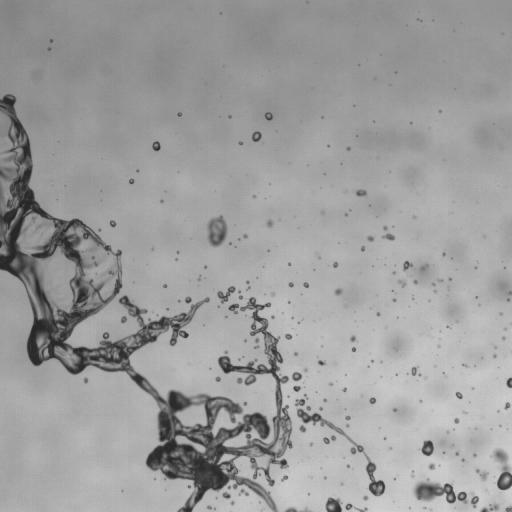droplet: (207, 214, 227, 247), (217, 286, 235, 303), (418, 440, 434, 456), (325, 497, 342, 511), (475, 468, 488, 481), (323, 435, 336, 445), (402, 260, 413, 271), (291, 371, 302, 382), (256, 120, 267, 131), (26, 178, 37, 189), (372, 227, 383, 238), (395, 287, 406, 298), (129, 321, 140, 332), (73, 322, 84, 333), (66, 335, 77, 346), (87, 338, 98, 349), (127, 352, 138, 363), (258, 354, 269, 365), (132, 362, 143, 373), (83, 364, 94, 375), (117, 370, 128, 381), (280, 382, 291, 393), (181, 386, 192, 397), (149, 403, 160, 414), (263, 409, 274, 420), (290, 415, 301, 426), (149, 424, 160, 435), (289, 430, 300, 441), (150, 436, 161, 447), (466, 458, 477, 469), (269, 463, 280, 474), (415, 472, 426, 483), (428, 473, 439, 484), (255, 474, 266, 485), (175, 477, 186, 488), (406, 478, 417, 489), (268, 485, 279, 496), (203, 488, 214, 499), (275, 500, 286, 511), (460, 500, 471, 511), (251, 131, 261, 142), (354, 189, 367, 196), (238, 488, 249, 496), (15, 111, 24, 120), (396, 269, 405, 278), (235, 281, 244, 290), (293, 281, 302, 290), (228, 294, 237, 303), (181, 303, 190, 312), (101, 304, 110, 313), (119, 305, 128, 314), (165, 309, 174, 318), (24, 319, 33, 328), (19, 348, 28, 357), (228, 370, 237, 379), (286, 378, 295, 387), (145, 394, 154, 403), (243, 405, 252, 414), (287, 407, 296, 416), (335, 418, 344, 427), (324, 427, 333, 436), (486, 444, 495, 453), (424, 454, 433, 463), (153, 468, 162, 477), (372, 471, 381, 480), (407, 491, 416, 500), (152, 141, 160, 151), (264, 112, 273, 120), (397, 279, 406, 287), (222, 491, 231, 499), (505, 456, 511, 467), (191, 505, 202, 511), (464, 505, 475, 511), (350, 334, 358, 342), (280, 474, 288, 482), (266, 219, 273, 228), (334, 288, 342, 295), (504, 402, 511, 410), (428, 462, 435, 470), (0, 109, 5, 120), (0, 149, 5, 160), (0, 267, 5, 278), (502, 505, 511, 511), (109, 220, 116, 227), (120, 316, 127, 323), (455, 392, 462, 399), (369, 397, 376, 404), (12, 102, 19, 109), (20, 120, 27, 127), (5, 141, 12, 148), (28, 144, 35, 151), (29, 171, 36, 178), (357, 183, 364, 190), (33, 194, 40, 201), (39, 202, 46, 209), (64, 214, 71, 221), (202, 217, 209, 224), (387, 227, 394, 234), (202, 229, 209, 236), (373, 234, 380, 241), (223, 235, 230, 242), (203, 239, 210, 246), (363, 240, 370, 247), (208, 244, 215, 251), (405, 278, 412, 285), (117, 289, 124, 296), (240, 298, 247, 305), (245, 308, 252, 315), (257, 309, 264, 316), (180, 324, 187, 331), (166, 326, 173, 333), (256, 331, 263, 338), (108, 335, 115, 342), (176, 335, 183, 342), (64, 337, 71, 344), (257, 339, 264, 346), (145, 341, 152, 348), (258, 343, 265, 350), (275, 343, 282, 350), (49, 357, 56, 364), (230, 358, 237, 365), (240, 359, 247, 366), (137, 368, 144, 375), (216, 368, 223, 375), (240, 371, 247, 378), (129, 380, 136, 387), (172, 384, 179, 391), (295, 391, 302, 398), (161, 392, 168, 399), (231, 396, 238, 403), (269, 396, 276, 403), (266, 419, 273, 426), (328, 428, 335, 435), (288, 434, 295, 441), (141, 452, 148, 459), (464, 453, 471, 460), (280, 467, 287, 474), (494, 469, 501, 476), (173, 477, 180, 484), (220, 485, 227, 492), (228, 488, 235, 495), (465, 493, 472, 500), (375, 494, 382, 501), (418, 498, 425, 505), (178, 500, 185, 507), (285, 501, 292, 508), (475, 501, 482, 508), (366, 235, 374, 241), (284, 333, 292, 339), (317, 360, 326, 365), (506, 329, 511, 338), (410, 470, 415, 478), (214, 376, 221, 381), (129, 178, 134, 184), (361, 245, 366, 251), (333, 261, 338, 267), (302, 282, 308, 287), (270, 291, 275, 297), (83, 377, 88, 383), (362, 495, 368, 500), (507, 325, 511, 332), (265, 507, 272, 511), (340, 507, 347, 511), (473, 507, 480, 511), (497, 507, 504, 511), (288, 282, 293, 287), (342, 387, 347, 392), (454, 418, 459, 423), (48, 42, 53, 47), (247, 131, 252, 136), (5, 137, 10, 142), (247, 137, 252, 142), (151, 149, 156, 154), (7, 151, 12, 156), (358, 195, 363, 200), (51, 212, 56, 217), (214, 212, 219, 217), (222, 215, 227, 220), (271, 217, 276, 222), (262, 218, 267, 223), (265, 226, 270, 231), (381, 230, 386, 235), (97, 231, 102, 236), (369, 231, 374, 236), (385, 238, 390, 243), (104, 240, 109, 245), (111, 247, 116, 252), (119, 253, 124, 258), (328, 260, 333, 265), (120, 266, 125, 271), (443, 277, 448, 282), (120, 279, 125, 284), (435, 281, 440, 286), (332, 284, 337, 289), (265, 289, 270, 294), (329, 289, 334, 294), (183, 292, 188, 297), (337, 293, 342, 298), (199, 295, 204, 300), (128, 297, 133, 302), (216, 297, 221, 302), (180, 298, 185, 303), (190, 299, 195, 304), (255, 299, 260, 304), (202, 301, 207, 306), (137, 304, 142, 309), (228, 310, 233, 315), (139, 312, 144, 317), (116, 315, 121, 320), (191, 315, 196, 320), (154, 316, 159, 321), (266, 316, 271, 321), (293, 316, 298, 321), (248, 317, 253, 322), (143, 319, 148, 324), (504, 322, 509, 327), (265, 326, 270, 331), (287, 329, 292, 334), (501, 330, 506, 335), (346, 333, 351, 338), (354, 334, 359, 339), (250, 335, 255, 340), (351, 341, 356, 346), (492, 348, 497, 353), (219, 351, 224, 356), (226, 352, 231, 357), (280, 352, 285, 357), (496, 353, 501, 358), (41, 360, 46, 365), (275, 361, 280, 366), (265, 363, 270, 368), (61, 366, 66, 371), (297, 368, 302, 373), (100, 369, 105, 374), (106, 370, 111, 375), (300, 371, 305, 376), (267, 372, 272, 377), (254, 373, 259, 378), (505, 373, 510, 378), (287, 374, 292, 379), (501, 379, 506, 384), (294, 380, 299, 385), (249, 382, 254, 387), (279, 382, 284, 387), (506, 386, 511, 391), (140, 389, 145, 394), (209, 392, 214, 397), (222, 392, 227, 397), (225, 393, 230, 398), (270, 393, 275, 398), (304, 400, 309, 405), (238, 401, 243, 406), (320, 401, 325, 406), (301, 405, 306, 410), (316, 409, 321, 414), (307, 410, 312, 415), (458, 417, 463, 422), (308, 419, 313, 424), (346, 419, 351, 424), (315, 420, 320, 425), (333, 421, 338, 426), (452, 422, 457, 427), (500, 425, 505, 430), (341, 426, 346, 431), (333, 431, 338, 436), (350, 435, 355, 440), (424, 435, 429, 440), (431, 440, 436, 445), (348, 442, 353, 447), (418, 442, 423, 447), (362, 446, 367, 451), (430, 451, 435, 456), (422, 454, 427, 459), (456, 454, 461, 459), (370, 457, 375, 462), (285, 458, 290, 463), (343, 459, 348, 464), (363, 460, 368, 465), (145, 466, 150, 471), (479, 466, 484, 471), (259, 469, 264, 474), (363, 472, 368, 477), (474, 472, 479, 477), (160, 473, 165, 478), (494, 473, 499, 478), (374, 476, 379, 481), (366, 478, 371, 483), (446, 479, 451, 484), (383, 480, 388, 485), (240, 483, 245, 488), (492, 483, 497, 488), (236, 484, 241, 489), (383, 487, 388, 492), (453, 490, 458, 495), (367, 491, 372, 496), (240, 492, 245, 497), (358, 493, 363, 498), (332, 494, 337, 499), (256, 495, 261, 500), (226, 497, 231, 502), (322, 497, 327, 502), (448, 502, 453, 507), (307, 504, 312, 509), (295, 505, 300, 510), (383, 225, 387, 231), (437, 278, 443, 282), (0, 92, 3, 99), (177, 112, 182, 116), (238, 141, 243, 145), (320, 210, 324, 215), (243, 233, 247, 238), (413, 279, 417, 284), (507, 290, 511, 295), (352, 346, 356, 351), (293, 352, 298, 356), (492, 354, 497, 358), (303, 367, 307, 372), (328, 382, 333, 386), (392, 408, 397, 412), (345, 416, 350, 420), (472, 453, 476, 458), (230, 500, 234, 505), (411, 294, 414, 300), (346, 146, 350, 150), (252, 194, 256, 198), (412, 215, 416, 219), (245, 280, 249, 284), (431, 282, 435, 286), (246, 286, 250, 290), (433, 289, 437, 293), (392, 298, 396, 302), (376, 312, 380, 316), (503, 327, 507, 331), (501, 336, 505, 340), (243, 338, 247, 342), (323, 398, 327, 402), (319, 406, 323, 410), (345, 423, 349, 427), (309, 442, 313, 446), (388, 446, 392, 450), (455, 451, 459, 455), (346, 464, 350, 468), (162, 284, 167, 287), (508, 294, 511, 299), (508, 372, 511, 377), (508, 405, 511, 410), (508, 485, 511, 490), (208, 508, 213, 511), (321, 508, 326, 511), (423, 508, 428, 511), (49, 39, 53, 42), (47, 47, 51, 50), (438, 109, 441, 113), (160, 199, 163, 203), (176, 250, 179, 254), (442, 252, 445, 256), (288, 262, 291, 266), (448, 277, 452, 280), (506, 298, 510, 301), (499, 312, 503, 315), (271, 315, 274, 319), (437, 344, 440, 348), (494, 345, 497, 349), (370, 359, 374, 362), (446, 430, 449, 434), (383, 436, 386, 440), (461, 458, 465, 461), (323, 476, 327, 479), (422, 506, 426, 509), (260, 508, 264, 511), (428, 508, 432, 511), (228, 115, 231, 118), (409, 121, 412, 124), (327, 144, 330, 147), (136, 169, 139, 172), (344, 213, 347, 216), (98, 228, 101, 231), (228, 242, 231, 245), (267, 249, 270, 252), (204, 265, 207, 268), (262, 264, 265, 267), (474, 266, 477, 269), (503, 266, 506, 269), (392, 271, 395, 274), (177, 299, 180, 302), (217, 305, 220, 308), (166, 307, 169, 310), (224, 315, 227, 318), (291, 316, 294, 319), (297, 321, 300, 324), (320, 344, 323, 347), (380, 360, 383, 363), (208, 367, 211, 370), (360, 393, 363, 396), (496, 409, 499, 412), (474, 427, 477, 430), (442, 451, 445, 454), (153, 477, 156, 480), (309, 476, 312, 479), (393, 477, 396, 480), (340, 482, 343, 485), (484, 488, 487, 491), (307, 492, 310, 495), (408, 506, 411, 509), (418, 16, 421, 19), (416, 19, 419, 22), (49, 35, 52, 38), (46, 38, 49, 41), (52, 39, 55, 42), (44, 47, 47, 50), (47, 50, 50, 53), (440, 107, 443, 110), (228, 111, 231, 114), (262, 111, 265, 114), (440, 111, 443, 114), (271, 112, 274, 115), (174, 113, 177, 116), (180, 114, 183, 117), (231, 114, 234, 117), (225, 116, 228, 119), (264, 118, 267, 121), (408, 118, 411, 121), (268, 119, 271, 122), (255, 128, 258, 131), (251, 129, 254, 132), (153, 138, 156, 141), (239, 138, 242, 141), (258, 138, 261, 141), (251, 140, 254, 143), (327, 141, 330, 144), (149, 142, 152, 145), (159, 143, 162, 146), (239, 144, 242, 147), (344, 144, 347, 147), (349, 145, 352, 148), (159, 146, 162, 149), (327, 146, 330, 149), (150, 147, 153, 150), (349, 148, 352, 151), (157, 149, 160, 152), (344, 149, 347, 152), (138, 169, 141, 172), (130, 175, 133, 178), (125, 179, 128, 182), (133, 179, 136, 182), (129, 183, 132, 186), (365, 190, 368, 193), (254, 192, 257, 195), (249, 193, 252, 196), (158, 196, 161, 199), (156, 199, 159, 202), (159, 202, 162, 205), (346, 210, 349, 213), (341, 212, 344, 215), (343, 215, 346, 218), (114, 219, 117, 222), (82, 220, 85, 223), (383, 222, 386, 225), (107, 223, 110, 226), (114, 224, 117, 227), (94, 230, 97, 233), (247, 234, 250, 237), (240, 236, 243, 239), (244, 237, 247, 240), (231, 242, 234, 245), (358, 245, 361, 248), (265, 246, 268, 249), (233, 247, 236, 250), (359, 250, 362, 253), (362, 250, 365, 253), (444, 250, 447, 253), (178, 251, 181, 254), (265, 251, 268, 254), (439, 252, 442, 255), (175, 254, 178, 257), (444, 254, 447, 257), (172, 259, 175, 262), (176, 259, 179, 262), (407, 259, 410, 262), (336, 260, 339, 263), (284, 262, 287, 265), (290, 262, 293, 265), (475, 263, 478, 266), (503, 263, 506, 266), (330, 264, 333, 267), (200, 265, 203, 268), (287, 265, 290, 268), (336, 265, 339, 268), (400, 265, 403, 268), (500, 265, 503, 268), (206, 266, 209, 269), (333, 267, 336, 270), (392, 267, 395, 270), (471, 267, 474, 270), (476, 267, 479, 270), (503, 268, 506, 271), (390, 273, 393, 276), (195, 275, 198, 278), (200, 275, 203, 278), (450, 275, 453, 278), (414, 276, 417, 279), (438, 276, 441, 279), (301, 279, 304, 282), (197, 280, 200, 283), (161, 281, 164, 284), (292, 281, 295, 284), (245, 283, 248, 286), (285, 283, 288, 286), (308, 283, 311, 286), (166, 284, 169, 287), (403, 285, 406, 288), (290, 286, 293, 289), (302, 286, 305, 289), (431, 286, 434, 289), (163, 287, 166, 290), (400, 287, 403, 290), (505, 289, 508, 292), (24, 292, 27, 295), (239, 292, 242, 295), (474, 292, 477, 295), (393, 295, 396, 298), (408, 295, 411, 298), (413, 295, 416, 298), (477, 295, 480, 298), (208, 298, 211, 301), (289, 298, 292, 301), (174, 299, 177, 302), (395, 299, 398, 302), (411, 299, 414, 302), (284, 300, 287, 303), (390, 300, 393, 303), (270, 303, 273, 306), (287, 303, 290, 306), (165, 304, 168, 307), (263, 306, 266, 309), (195, 308, 198, 311), (280, 308, 283, 311), (373, 311, 376, 314), (379, 311, 382, 314), (273, 313, 276, 316), (288, 314, 291, 317), (375, 315, 378, 318), (224, 317, 227, 320), (299, 320, 302, 323), (123, 321, 126, 324), (447, 322, 450, 325), (296, 323, 299, 326), (443, 323, 446, 326), (446, 327, 449, 330), (186, 335, 189, 338), (291, 335, 294, 338), (498, 337, 501, 340), (288, 338, 291, 341), (504, 338, 507, 341), (240, 339, 243, 342), (168, 344, 171, 347), (355, 347, 358, 350), (294, 348, 297, 351), (348, 348, 351, 351), (291, 350, 294, 353), (352, 351, 355, 354), (489, 354, 492, 357), (293, 355, 296, 358), (371, 356, 374, 359), (493, 357, 496, 360), (320, 358, 323, 361), (373, 359, 376, 362), (462, 360, 465, 363), (368, 361, 371, 364), (466, 362, 469, 365), (317, 363, 320, 366), (413, 363, 416, 366), (461, 365, 464, 368), (205, 367, 208, 370), (366, 367, 369, 370), (307, 368, 310, 371), (441, 368, 444, 371), (395, 369, 398, 372), (408, 370, 411, 373), (392, 371, 395, 374), (444, 371, 447, 374), (346, 372, 349, 375), (440, 373, 443, 376), (344, 375, 347, 378), (394, 375, 397, 378), (419, 375, 422, 378), (87, 379, 90, 382), (330, 379, 333, 382), (216, 381, 219, 384), (471, 383, 474, 386), (329, 385, 332, 388), (340, 386, 343, 389), (345, 388, 348, 391), (471, 389, 474, 392), (317, 390, 320, 393), (340, 390, 343, 393), (459, 390, 462, 393), (306, 393, 309, 396), (370, 394, 373, 397), (453, 394, 456, 397), (324, 395, 327, 398), (367, 396, 370, 399), (374, 396, 377, 399), (419, 396, 422, 399), (243, 398, 246, 401), (422, 399, 425, 402), (416, 400, 419, 403), (367, 401, 370, 404), (372, 402, 375, 405), (502, 403, 505, 406), (393, 404, 396, 407), (464, 408, 467, 411), (493, 408, 496, 411), (390, 410, 393, 413), (395, 410, 398, 413), (345, 412, 348, 415), (451, 419, 454, 422), (499, 421, 502, 424), (495, 424, 498, 427), (449, 428, 452, 431), (443, 431, 446, 434), (383, 433, 386, 436), (380, 435, 383, 438), (320, 439, 323, 442), (382, 439, 385, 442), (356, 441, 359, 444), (291, 442, 294, 445), (306, 442, 309, 445), (311, 444, 314, 447), (391, 445, 394, 448), (388, 449, 391, 452), (474, 450, 477, 453), (348, 451, 351, 454), (452, 451, 455, 454), (469, 452, 472, 455), (366, 453, 369, 456), (441, 453, 444, 456), (475, 455, 478, 458), (460, 461, 463, 464), (349, 464, 352, 467), (434, 464, 437, 467), (344, 466, 347, 469), (409, 467, 412, 470), (472, 469, 475, 472), (408, 470, 411, 473), (413, 471, 416, 474), (323, 472, 326, 475), (392, 474, 395, 477), (287, 475, 290, 478), (326, 475, 329, 478), (320, 476, 323, 479), (395, 477, 398, 480), (283, 479, 286, 482), (342, 480, 345, 483), (273, 481, 276, 484), (337, 481, 340, 484), (304, 492, 307, 495), (474, 492, 477, 495), (309, 493, 312, 496), (350, 501, 353, 504), (233, 502, 236, 505), (210, 504, 213, 507), (360, 506, 363, 509), (405, 506, 408, 509), (215, 507, 218, 510), (237, 238, 241, 240), (174, 258, 178, 260), (483, 235, 485, 238), (151, 247, 153, 250), (288, 300, 290, 303), (478, 303, 480, 306), (509, 322, 511, 325), (367, 365, 370, 367), (395, 373, 398, 375), (406, 372, 408, 375), (471, 387, 474, 389), (419, 400, 422, 402), (499, 424, 501, 427), (215, 496, 217, 499), (509, 287, 511, 290), (355, 509, 358, 511), (408, 509, 411, 511), (395, 71, 397, 73), (353, 104, 355, 106), (321, 116, 323, 118), (373, 120, 375, 122), (356, 135, 358, 137), (340, 162, 342, 164), (323, 173, 325, 175), (349, 209, 351, 211), (392, 225, 394, 227), (313, 268, 315, 270), (256, 276, 258, 278), (300, 293, 302, 295), (475, 296, 477, 298), (428, 299, 430, 301), (281, 312, 283, 314), (156, 314, 158, 316), (245, 314, 247, 316), (396, 316, 398, 318), (439, 330, 441, 332), (434, 365, 436, 367), (315, 391, 317, 393), (287, 395, 289, 397), (468, 401, 470, 403), (344, 408, 346, 410), (490, 428, 492, 430), (438, 464, 440, 466), (320, 467, 322, 469), (121, 490, 123, 492), (258, 501, 260, 503), (220, 12, 221, 14), (369, 204, 370, 206), (234, 246, 236, 247), (264, 293, 265, 295), (506, 428, 508, 429), (451, 258, 452, 259), (408, 306, 409, 307), (381, 376, 382, 377), (453, 428, 454, 429)
ligament: (294, 393, 385, 497), (344, 502, 367, 511), (479, 502, 499, 511), (283, 506, 313, 511), (381, 233, 395, 241), (292, 385, 305, 392), (420, 263, 429, 271), (253, 337, 259, 349), (238, 289, 244, 299), (506, 377, 511, 388), (206, 505, 215, 511), (315, 253, 321, 259), (238, 356, 244, 362), (197, 274, 201, 281), (461, 363, 468, 367), (442, 372, 447, 377), (446, 325, 451, 329), (417, 18, 422, 21), (462, 411, 467, 413), (164, 191, 167, 192)
